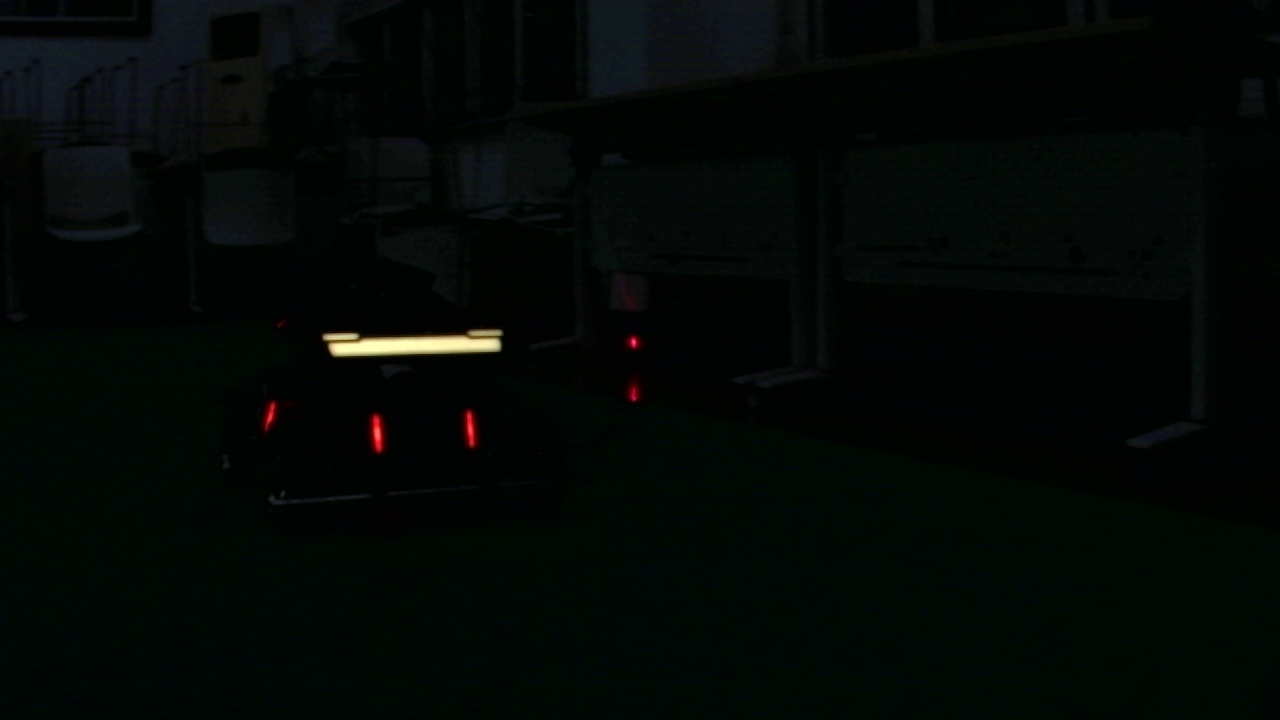lamp: (370, 409, 385, 455), (463, 412, 477, 449)
pair1: (372, 408, 477, 448)
